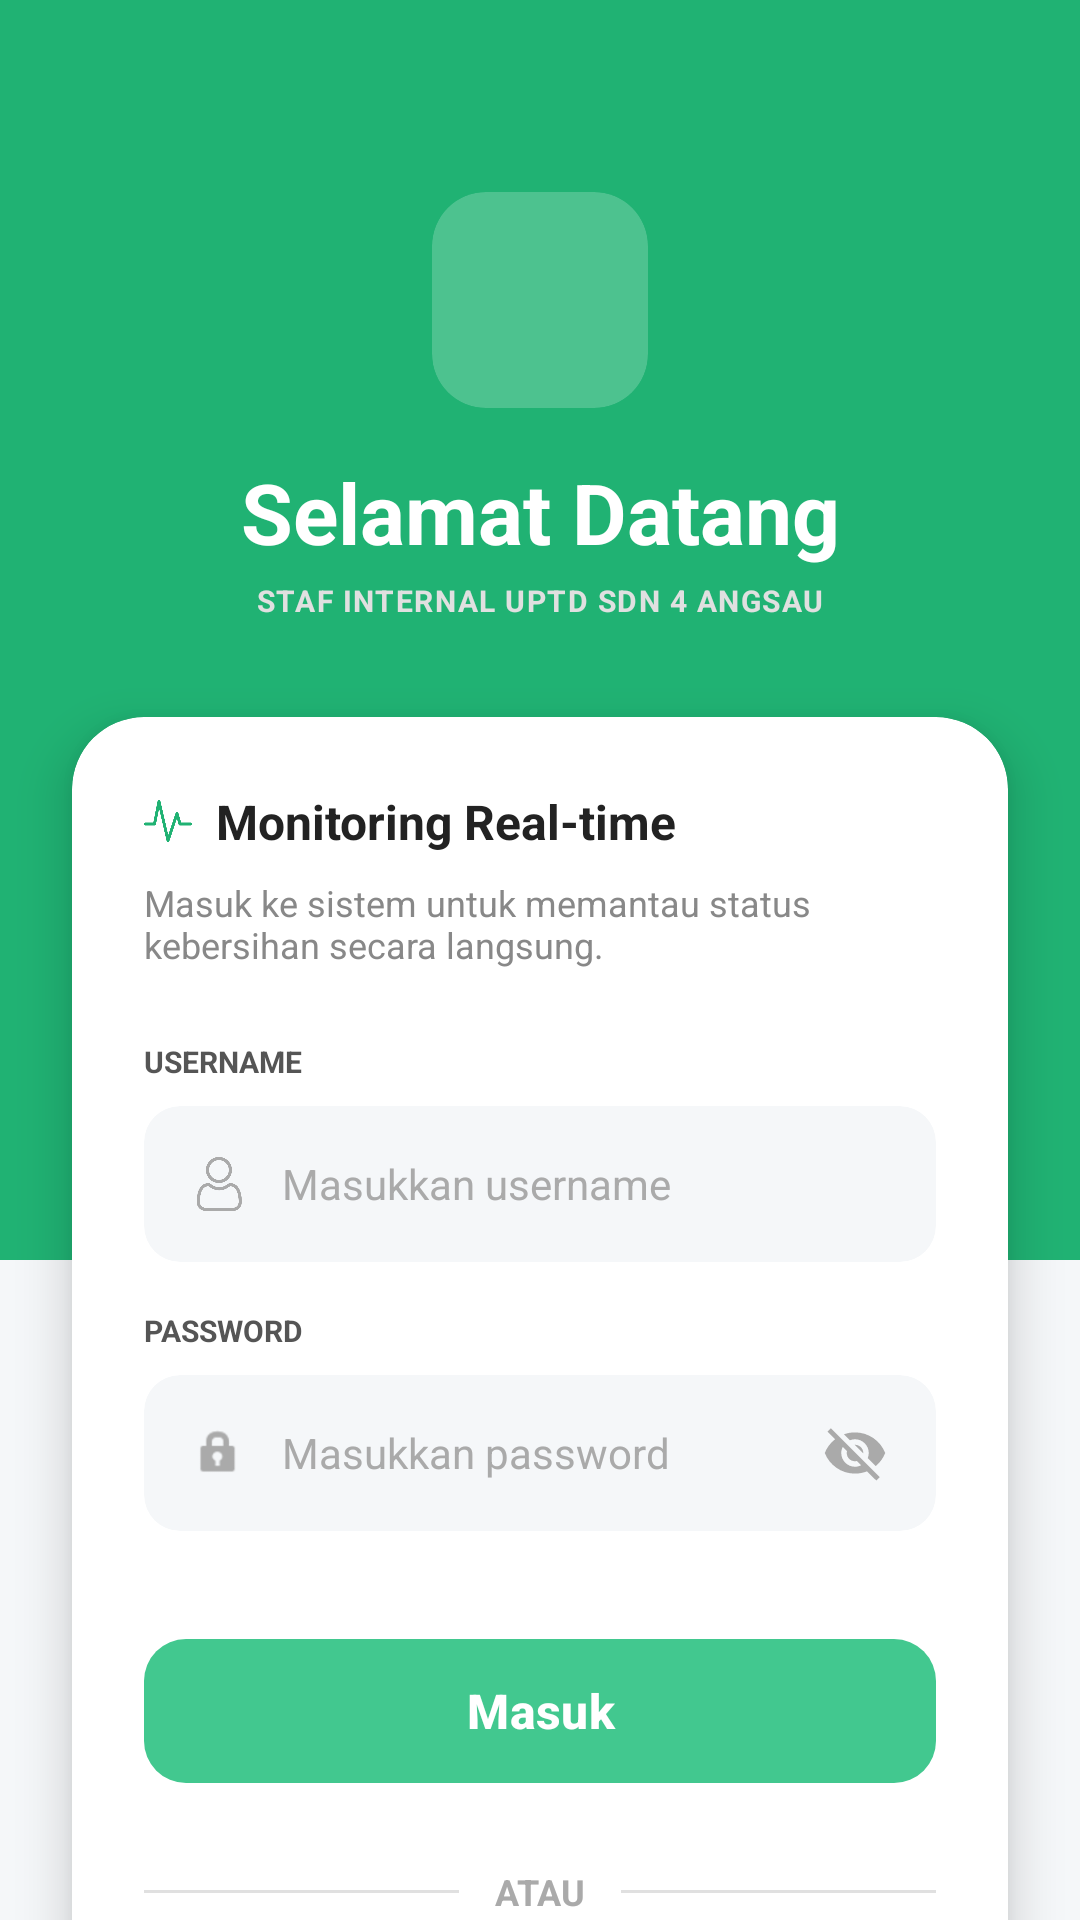

Screen size 1080 × 1920. Icon name, then its box in pixels as (x1, y1, x2, y2):
lock idle: (200, 1431, 235, 1472)
profile: (197, 1157, 242, 1211)
Toggle visibilitas password: (825, 1428, 885, 1480)
